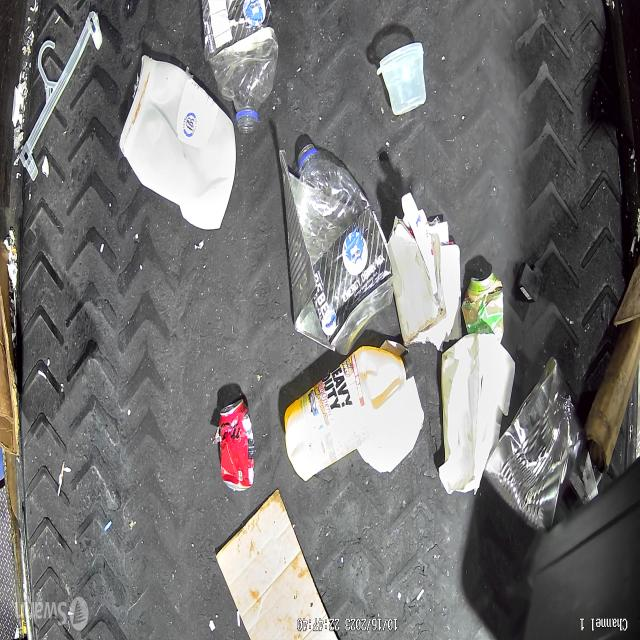can: (482, 358, 584, 533), (218, 399, 254, 492), (462, 272, 504, 338)
milk_jug: (118, 55, 236, 228)
non_white_jug: (284, 346, 413, 482)
plastic_bottle: (297, 144, 394, 356), (207, 2, 279, 134)
